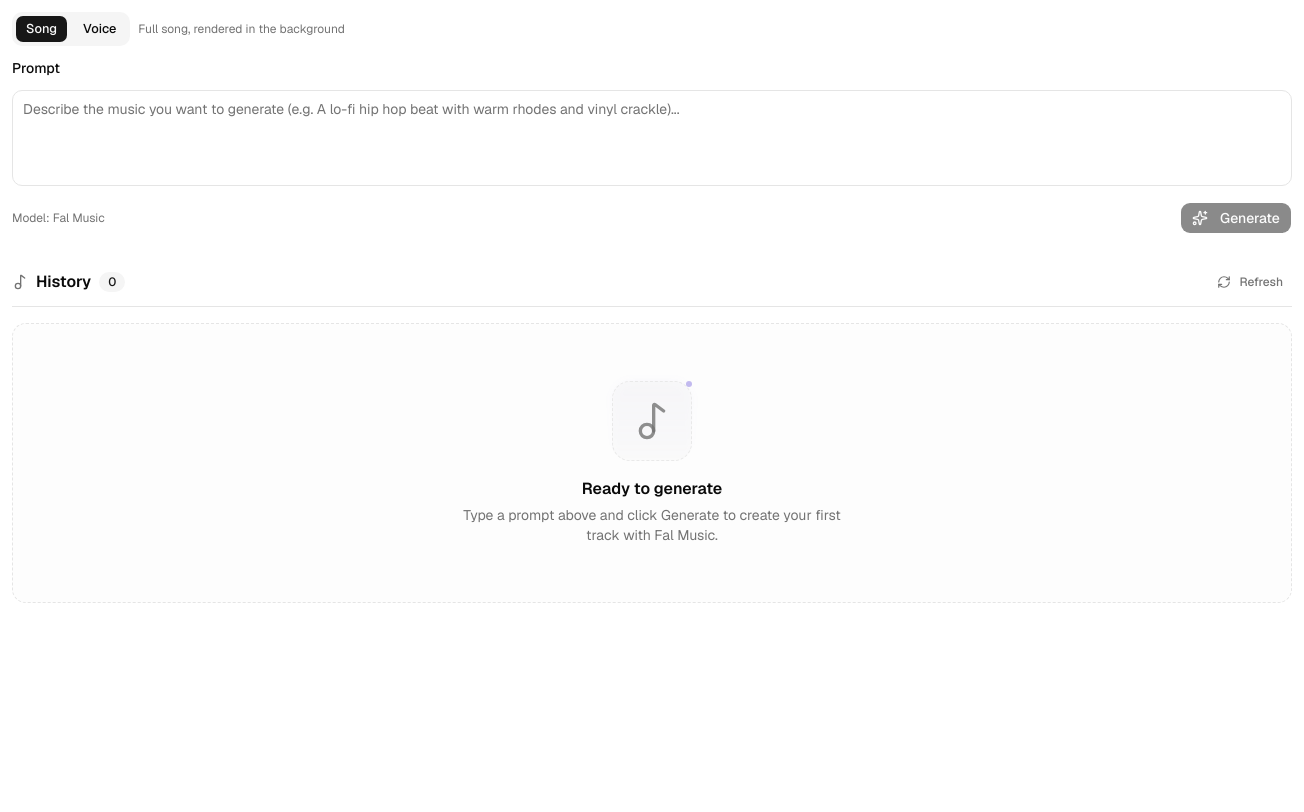
Test: MusicWorkspace › polls the job and shows the audio player once the song succeeds
The width and height of the screenshot is (1304, 812).
Replace the text in the text box labelled "Prompt" with "A lo-fi hip hop beat" at (652, 138), box [12, 90, 1292, 186]
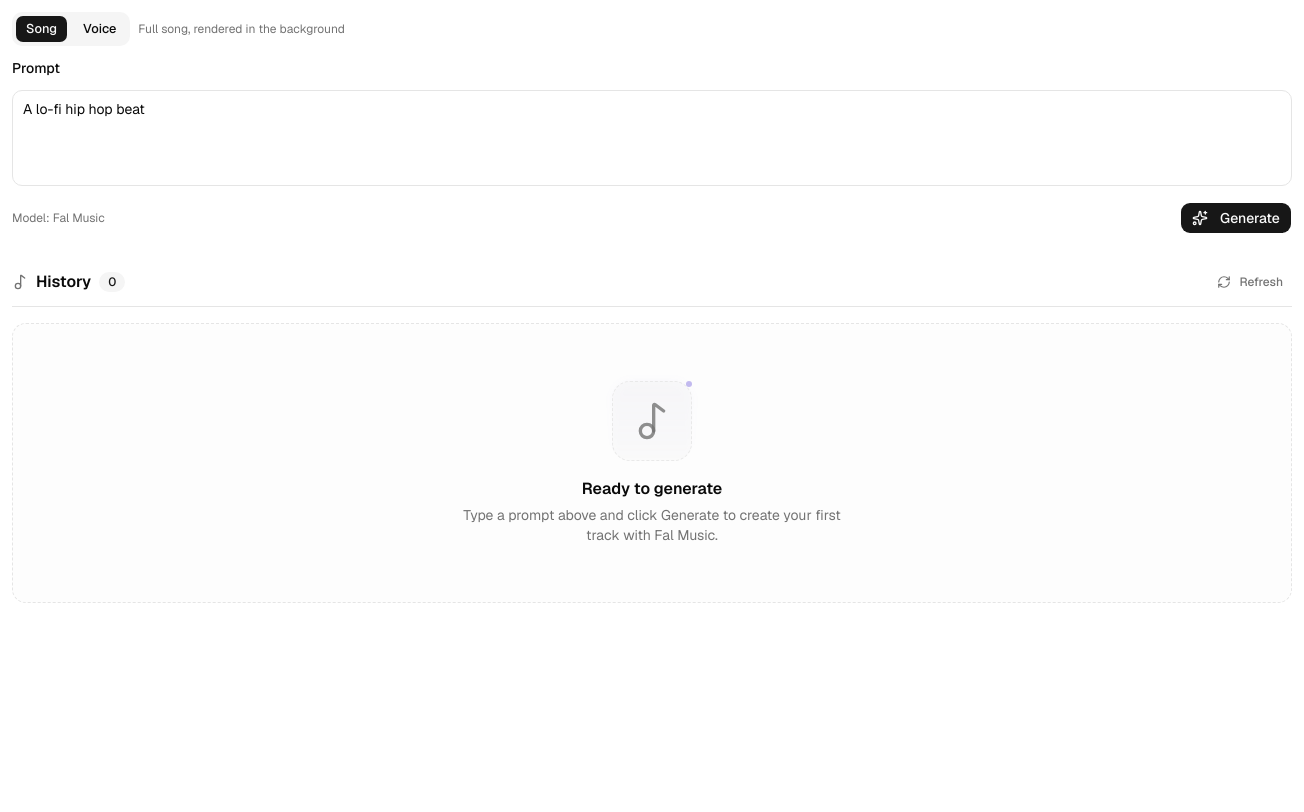
Click the button "Generate" at (1236, 218), box [1180, 202, 1292, 234]
Wait 5000 ms
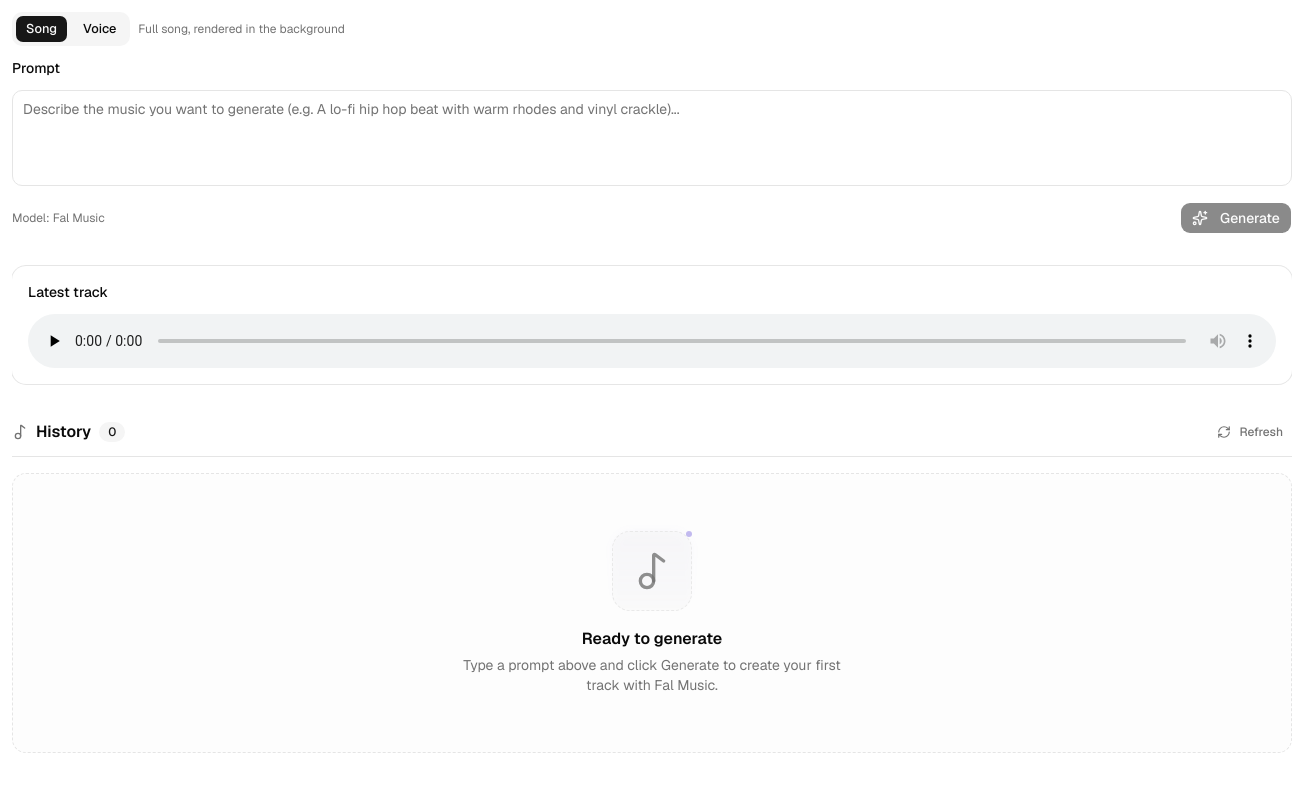
Check: the element named "Generated audio" is shown, box [28, 314, 1276, 368]
